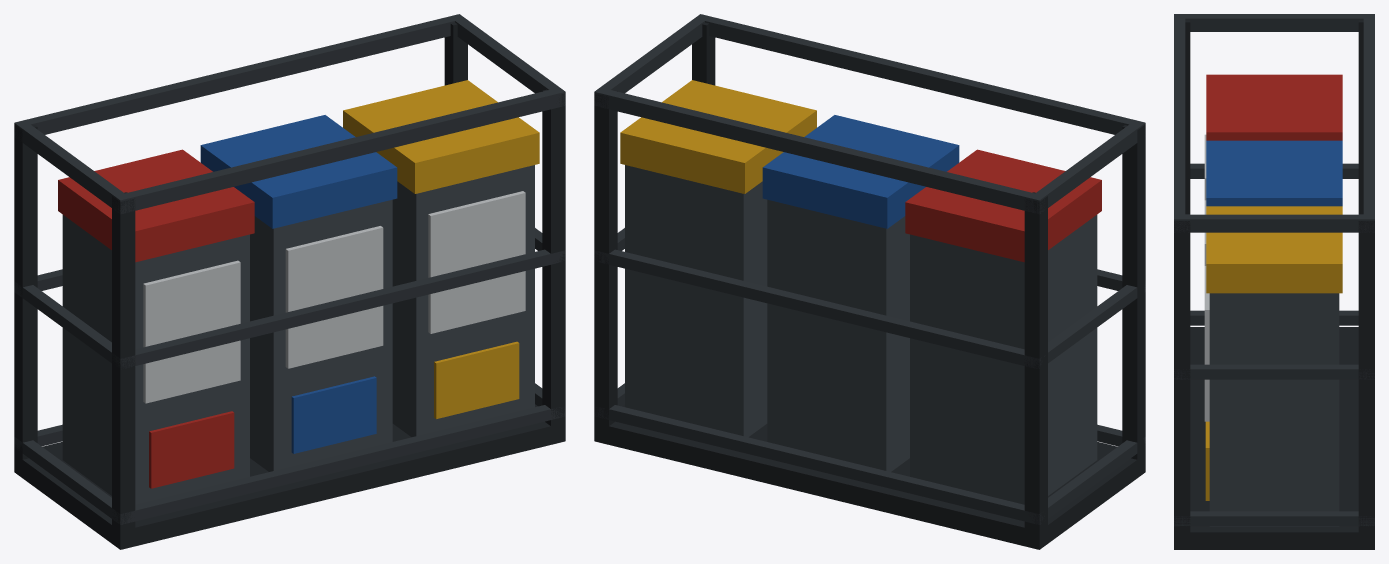
The model's file is publication-corral.glb.
3 renders of one model, left to right at view 1: azimuth 30°, elevation 25°; view 2: azimuth 150°, elevation 25°; view 3: azimuth 270°, elevation 25°, orthographic. The views are drawn at different scales.
Parts seen in each view (by area): view 1: corral; view 2: corral; view 3: corral.
Boxes of the visible parts, <box> form: corral: <box>14,14,565,549</box>; corral: <box>594,14,1145,549</box>; corral: <box>1174,14,1374,549</box>.
Size of the model in its own units: 1.5 by 1.12 by 0.62.
